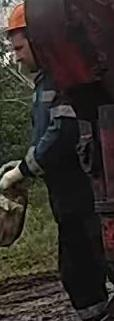gloves: (0, 160, 25, 191)
helmet: (2, 2, 26, 32)
vest: (29, 80, 96, 214)
